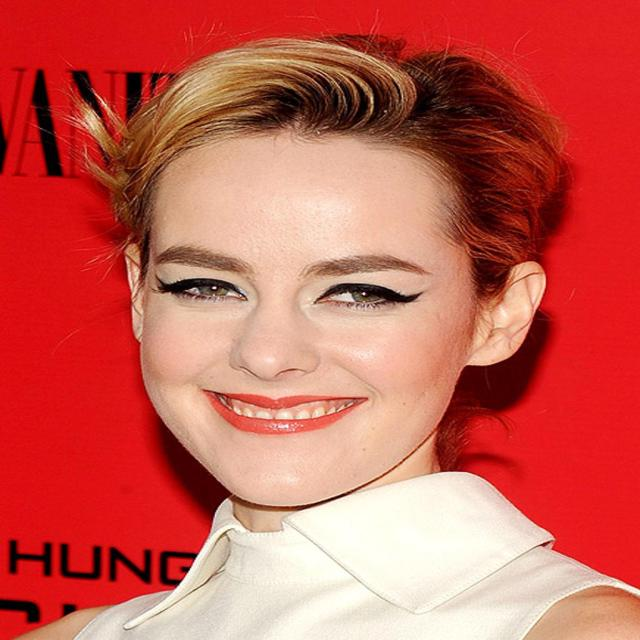Face: (124, 122, 444, 537)
